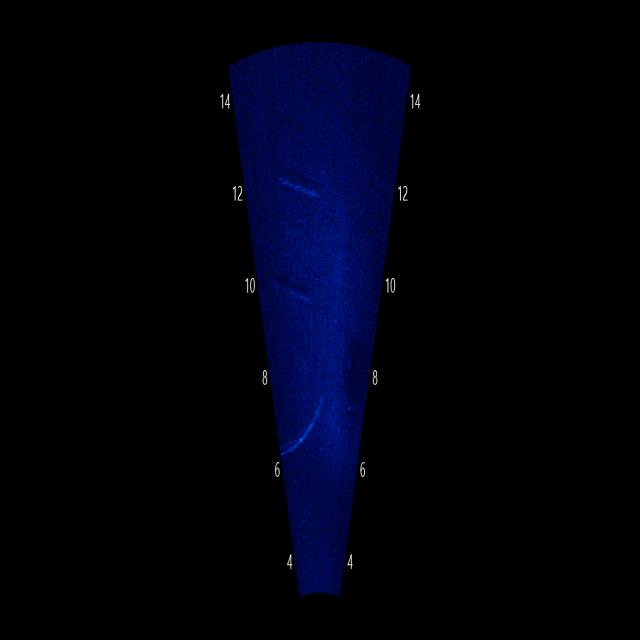square: (260, 147, 328, 310)
